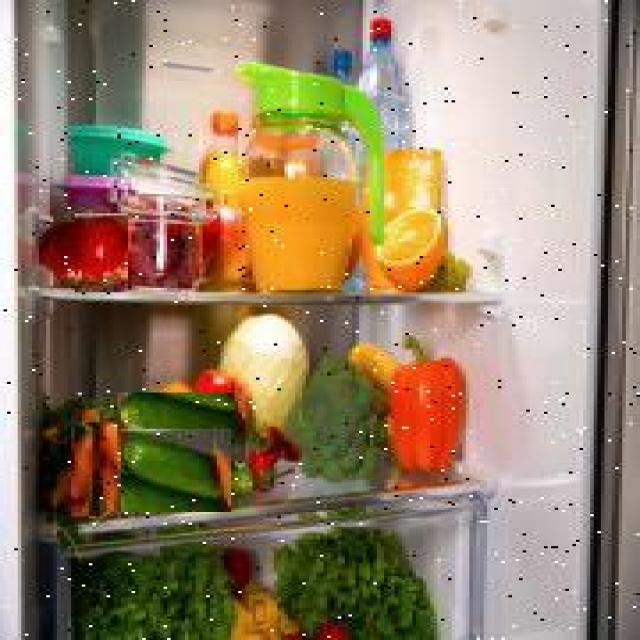bell_pepper: (384, 325, 473, 479)
broccoli: (284, 347, 394, 498)
carrot: (98, 405, 144, 495), (71, 422, 100, 516)
cucumber: (121, 429, 231, 512), (119, 392, 247, 461)
tomato: (75, 214, 128, 292), (37, 222, 80, 286)
